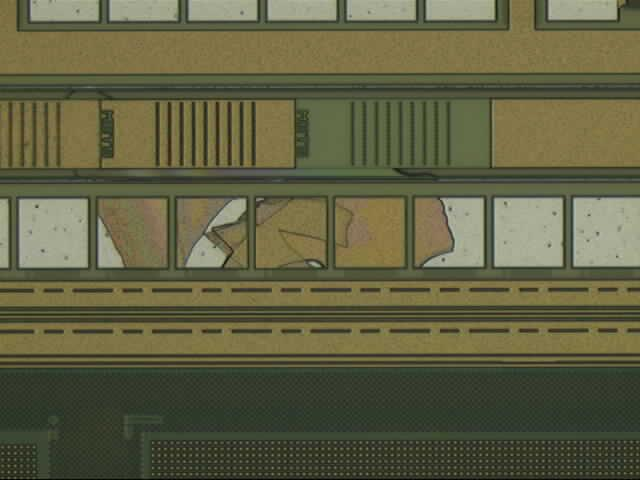COATING BAD: (54, 85, 468, 277)
